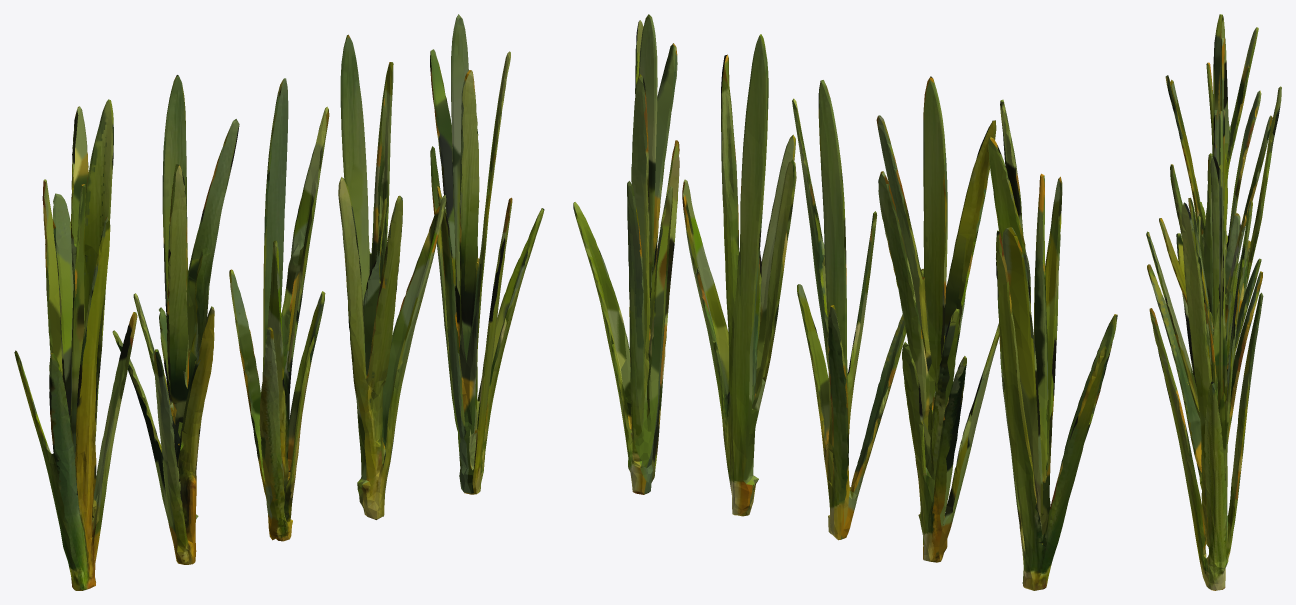
The model's file is traveler_env_coast_kensu_rice_seedlings_00001_.glb.
3 views of the same model, side by side, from view 1: azimuth 30°, elevation 25°; view 2: azimuth 150°, elevation 25°; view 3: azimuth 270°, elevation 25° (orthographic). The views are drawn at different scales.
Visible parts, largest first — view 1: temp_mesh.ply; view 2: temp_mesh.ply; view 3: temp_mesh.ply.
Boxes of the visible parts, bbox=[...] form: temp_mesh.ply: bbox=[14, 14, 544, 590]; temp_mesh.ply: bbox=[573, 14, 1117, 590]; temp_mesh.ply: bbox=[1146, 14, 1281, 590].
Size of the model in its own units: 1.95 by 1.71 by 0.4943.
1 material, 1 textured.
